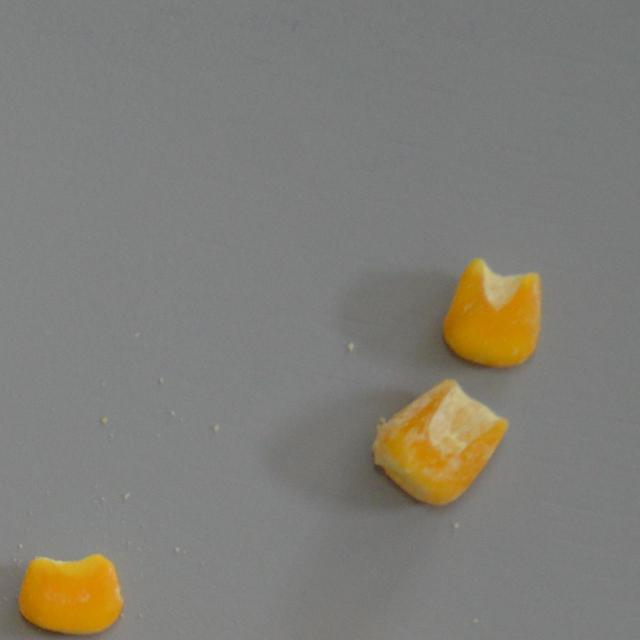dañado: (364, 372, 512, 510), (440, 250, 546, 371)
pelicula: (14, 550, 126, 638)
